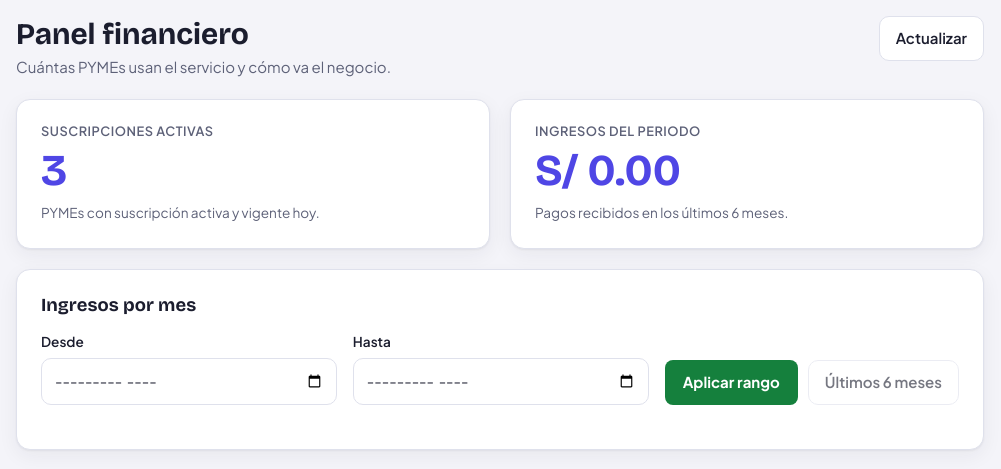
Test case: Panel financiero (HU-05) › el botón Actualizar vuelve a pedir el total
The width and height of the screenshot is (1001, 469).
Check: the text "3" is shown, box [41,144,67,197]
Step 1. Click the button "Actualizar" → (931, 38), box [879,16,984,60]
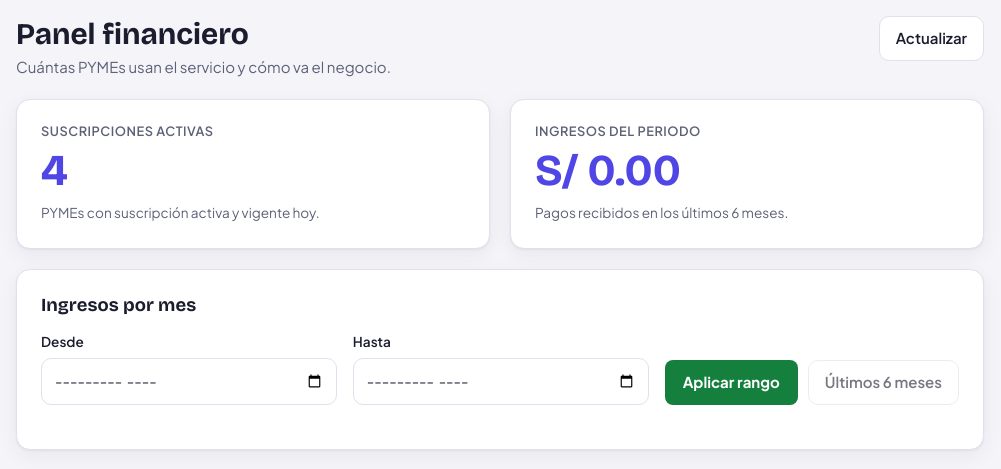
Check: the text "4" is shown, box [41,144,68,197]
